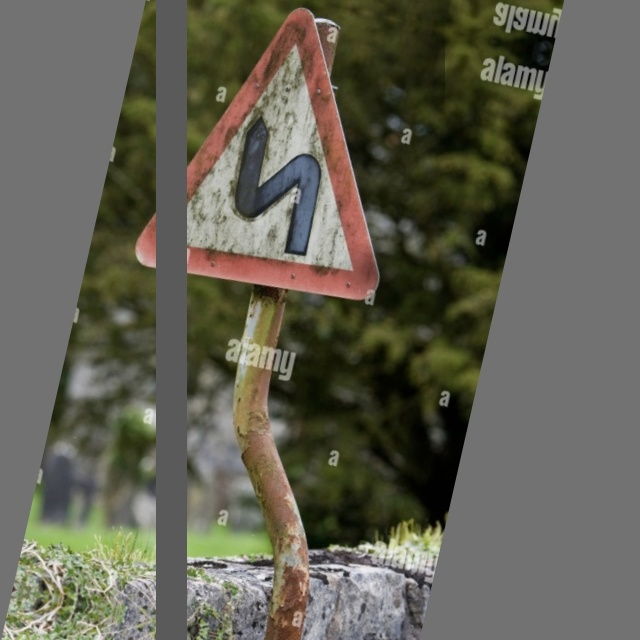Left_Reverse_Bend: (137, 1, 445, 319)
